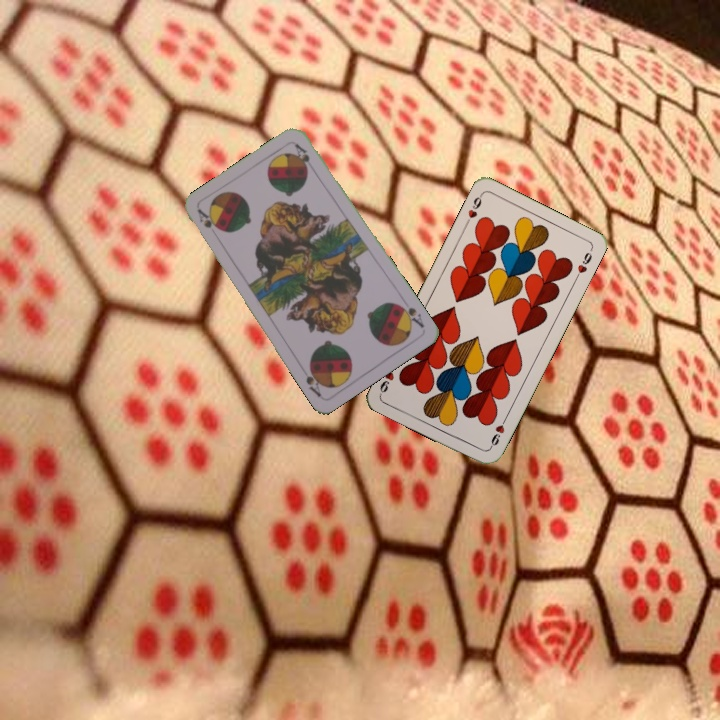H9: (485, 414, 510, 451), (461, 190, 485, 228)
SA: (393, 300, 427, 330), (193, 205, 220, 232)
